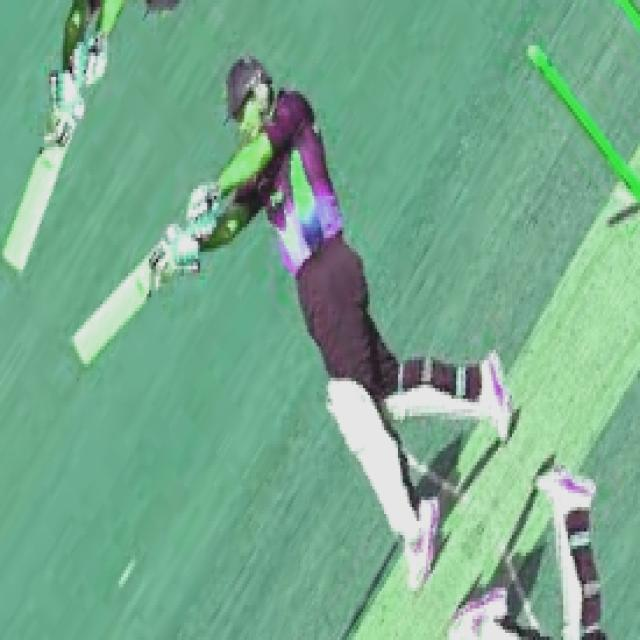toe: (69, 337, 88, 368)
